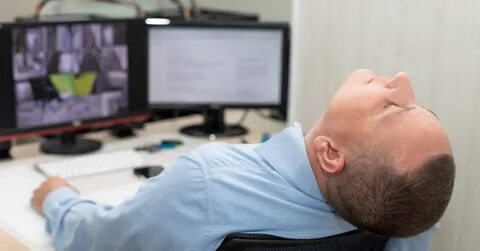sleep: (30, 68, 457, 251)
